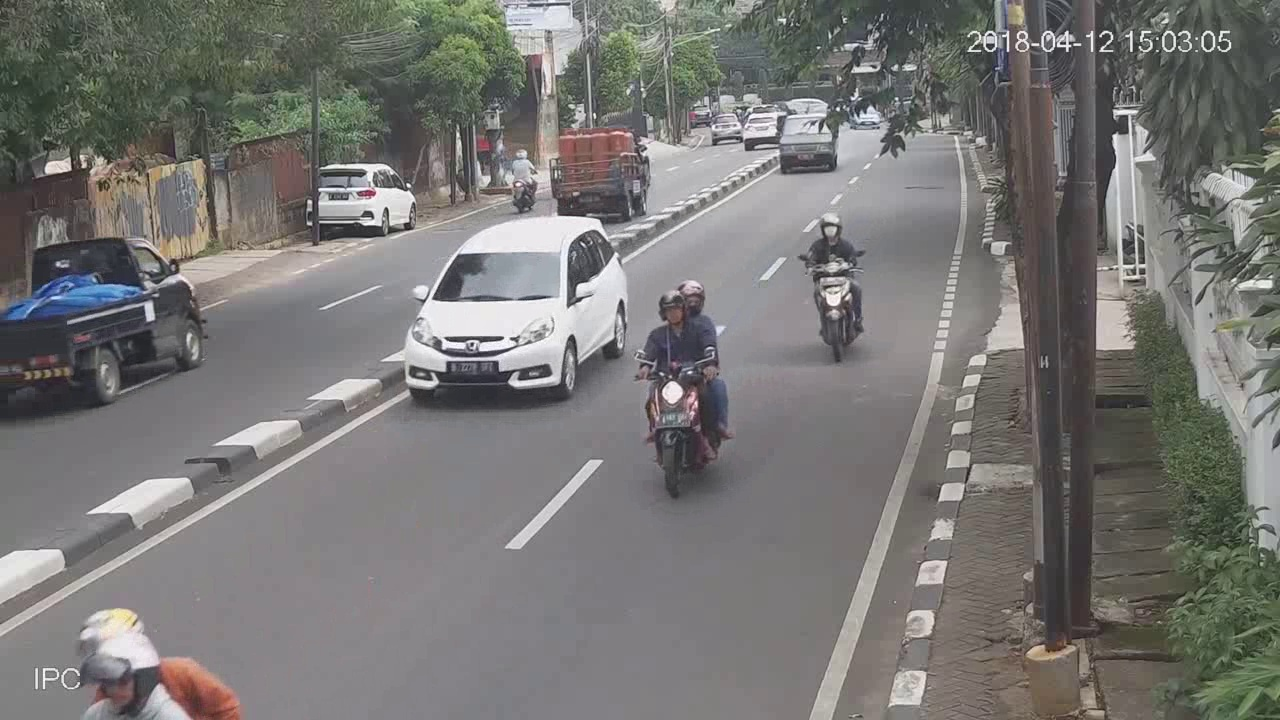car: (405, 205, 632, 411), (300, 153, 422, 242), (778, 111, 839, 174), (745, 113, 779, 151), (708, 110, 743, 146)
motorcycle: (632, 280, 741, 501), (796, 204, 869, 370), (506, 143, 540, 214)
truck: (1, 235, 214, 408), (546, 128, 649, 216)
